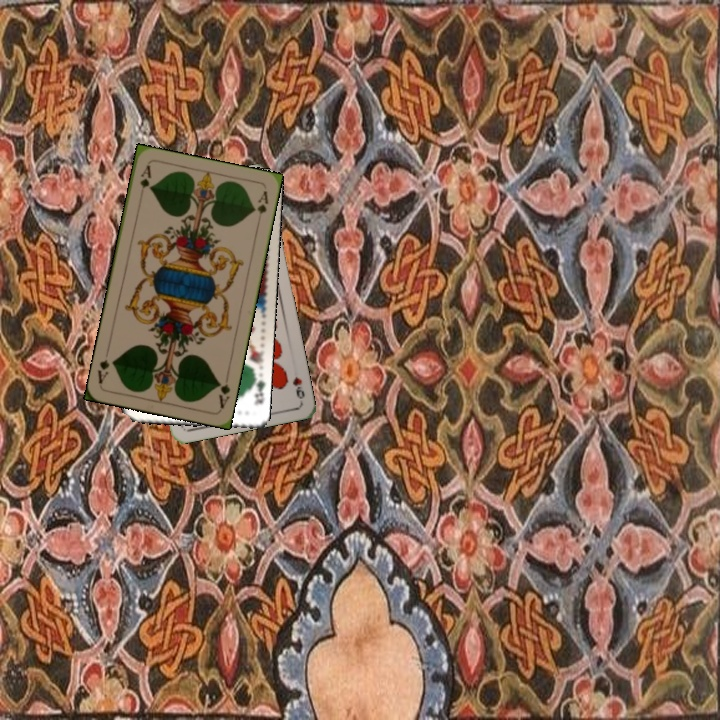GA: (214, 370, 233, 411), (136, 161, 154, 191)
GK: (246, 372, 267, 407)
H9: (288, 373, 307, 402)
